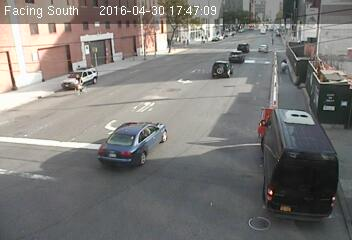neg: (69, 71, 86, 94)
pos: (278, 57, 289, 71)
